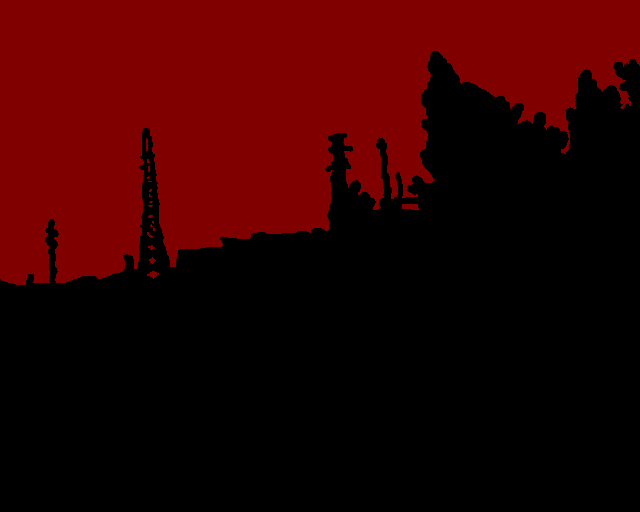Sky: (1, 1, 639, 284)
